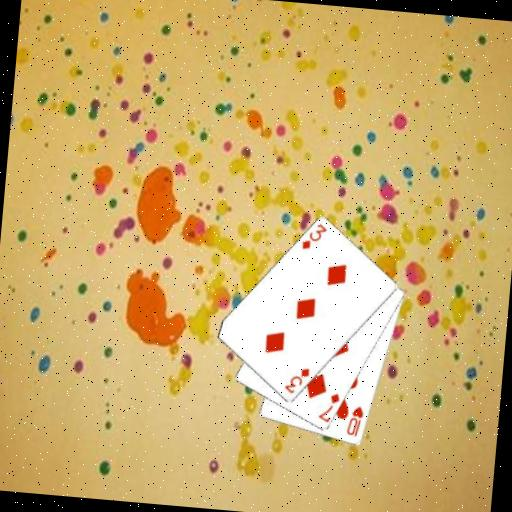10H: (344, 402, 366, 439)
3D: (282, 363, 312, 397), (299, 219, 329, 253)
7D: (315, 389, 342, 425)
